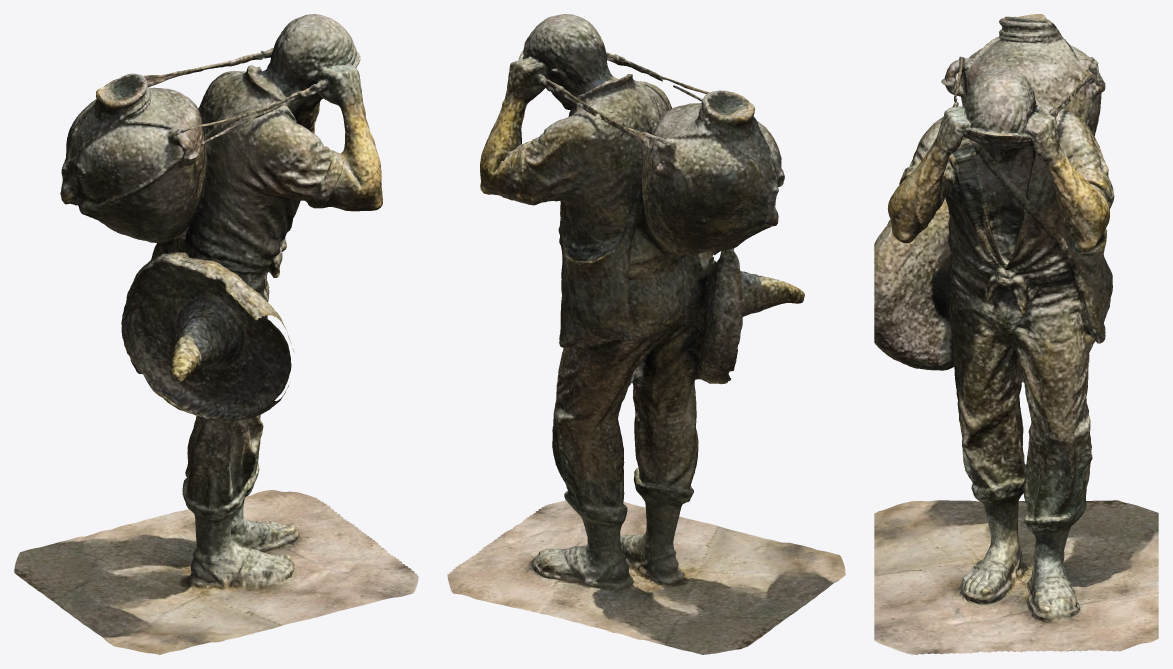
File: el_aguador.glb
3 views of the same model, side by side, from view 1: azimuth 30°, elevation 25°; view 2: azimuth 150°, elevation 25°; view 3: azimuth 270°, elevation 25° (orthographic). The views are drawn at different scales.
Size of the model in its own units: 1.21 by 2.05 by 0.9576.
Materials: 1 (1 with a texture image).
